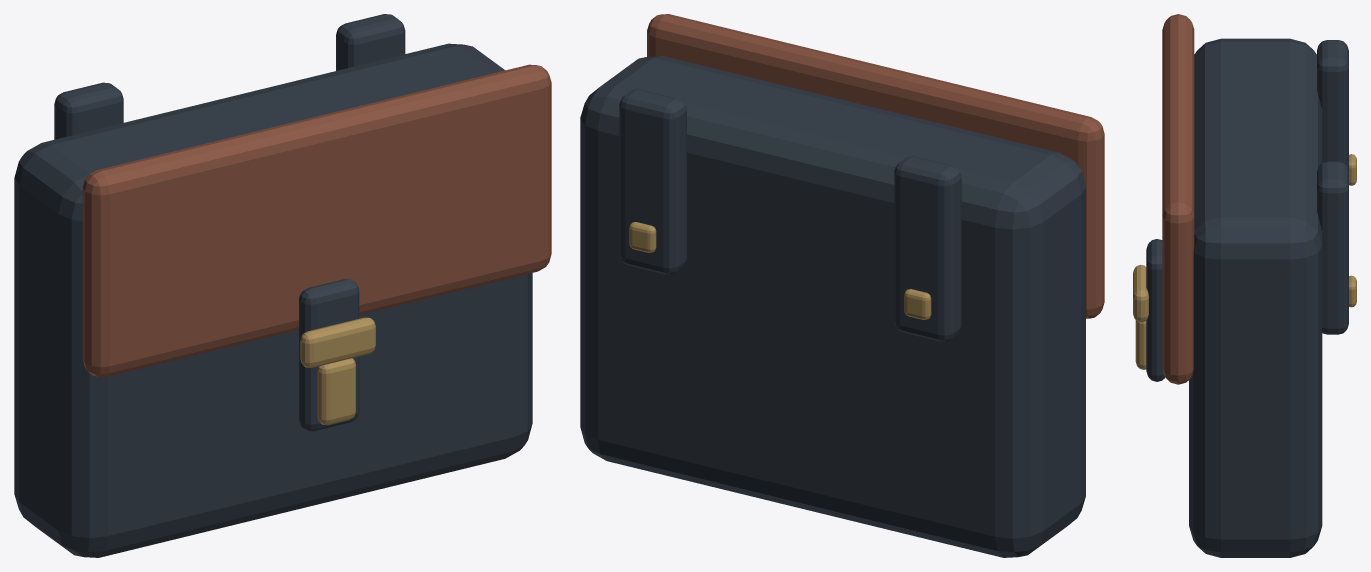
Rendered from TravelerPouch.fbx.
3 views of the same model, side by side, from view 1: azimuth 30°, elevation 25°; view 2: azimuth 150°, elevation 25°; view 3: azimuth 270°, elevation 25° (orthographic). The views are drawn at different scales.
Parts seen in each view (by area): view 1: TravelerPouch; view 2: TravelerPouch; view 3: TravelerPouch.
Boxes of the visible parts, x1,y1,x2,y2 form: TravelerPouch: (14, 14, 551, 557); TravelerPouch: (580, 14, 1104, 557); TravelerPouch: (1133, 14, 1356, 557).
Bounding box in the file's own units: 18 × 14.85 × 8.4.
